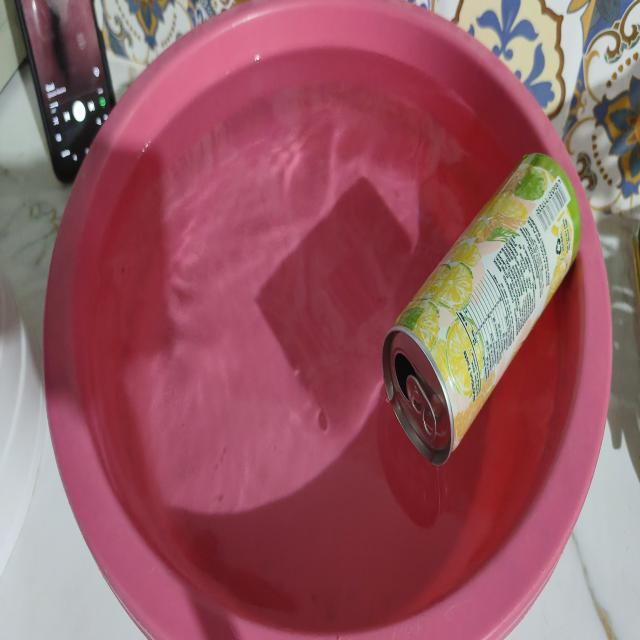Aluminum Can: (383, 154, 580, 460)
